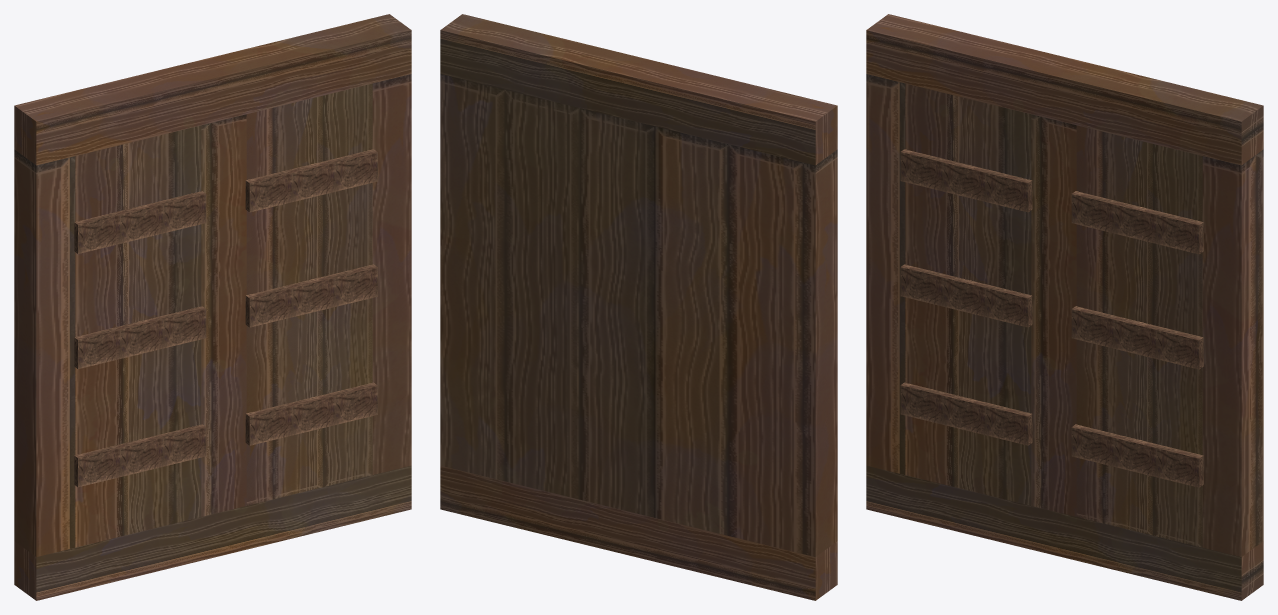
File: NB_win.fbx
3 renders of one model, left to right at view 1: azimuth 30°, elevation 25°; view 2: azimuth 150°, elevation 25°; view 3: azimuth 330°, elevation 25°, orthographic.
Parts seen in each view (by area): view 1: Box004; view 2: Box004; view 3: Box004.
Boxes of the visible parts, <box> form: Box004: <box>14,14,411,600</box>; Box004: <box>440,14,837,600</box>; Box004: <box>866,14,1263,600</box>.
Bounding box in the file's own units: 54.88 × 66.98 × 6.68.
Materials: 2 (2 with a texture image).
